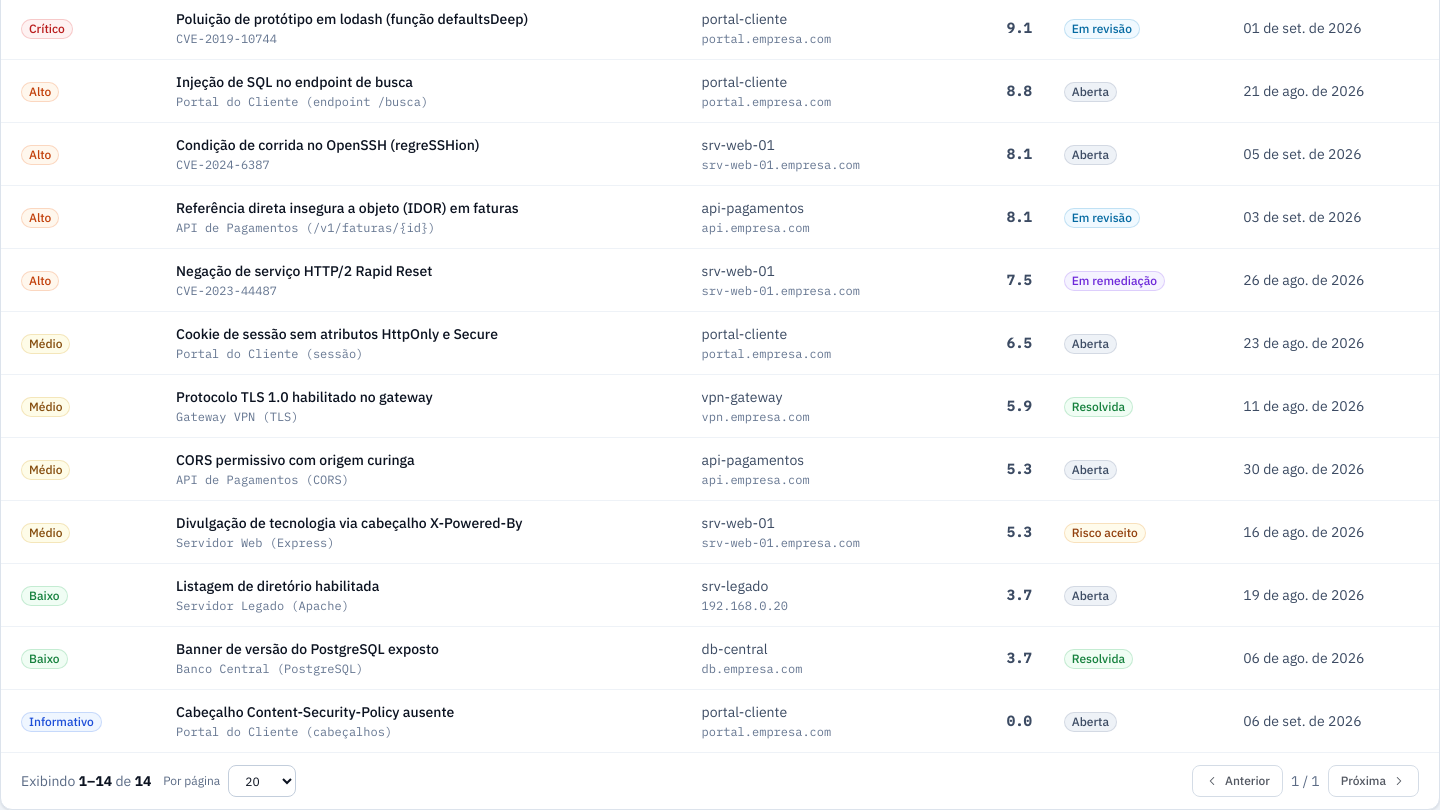
Test case: VulnListPage com paginação no servidor › troca de página sem repetir linhas e começa pelas mais graves
The width and height of the screenshot is (1440, 810).
(page scrolled)
Select "10" in the dropdown named "Itens por página" at (262, 781), box [228,765,296,797]
(page scrolled)
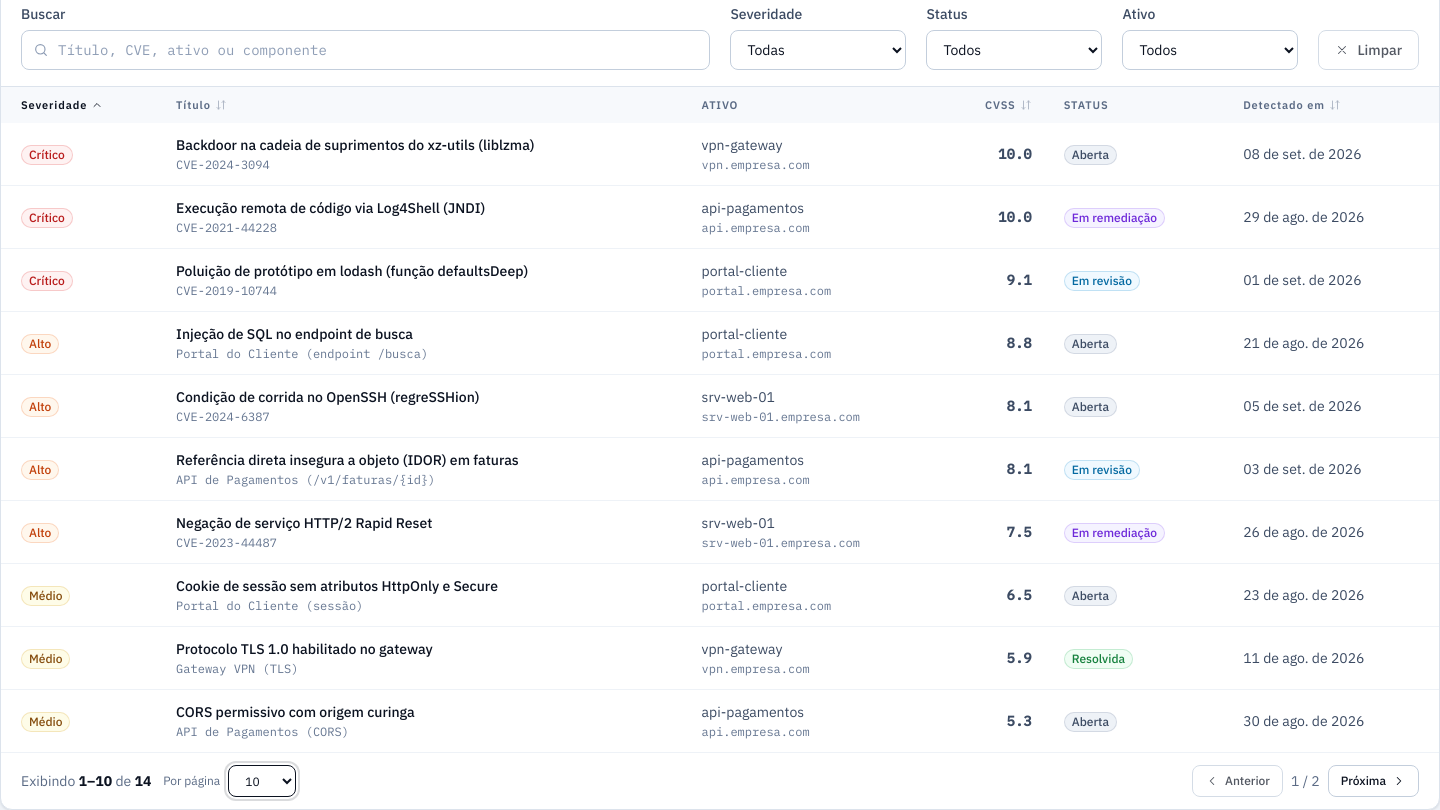
Expected: the number of rows with test id "vuln-row" is 10
Click the button with aria-label "Próxima página" at (1373, 781), box [1328,765,1419,797]
(page scrolled)
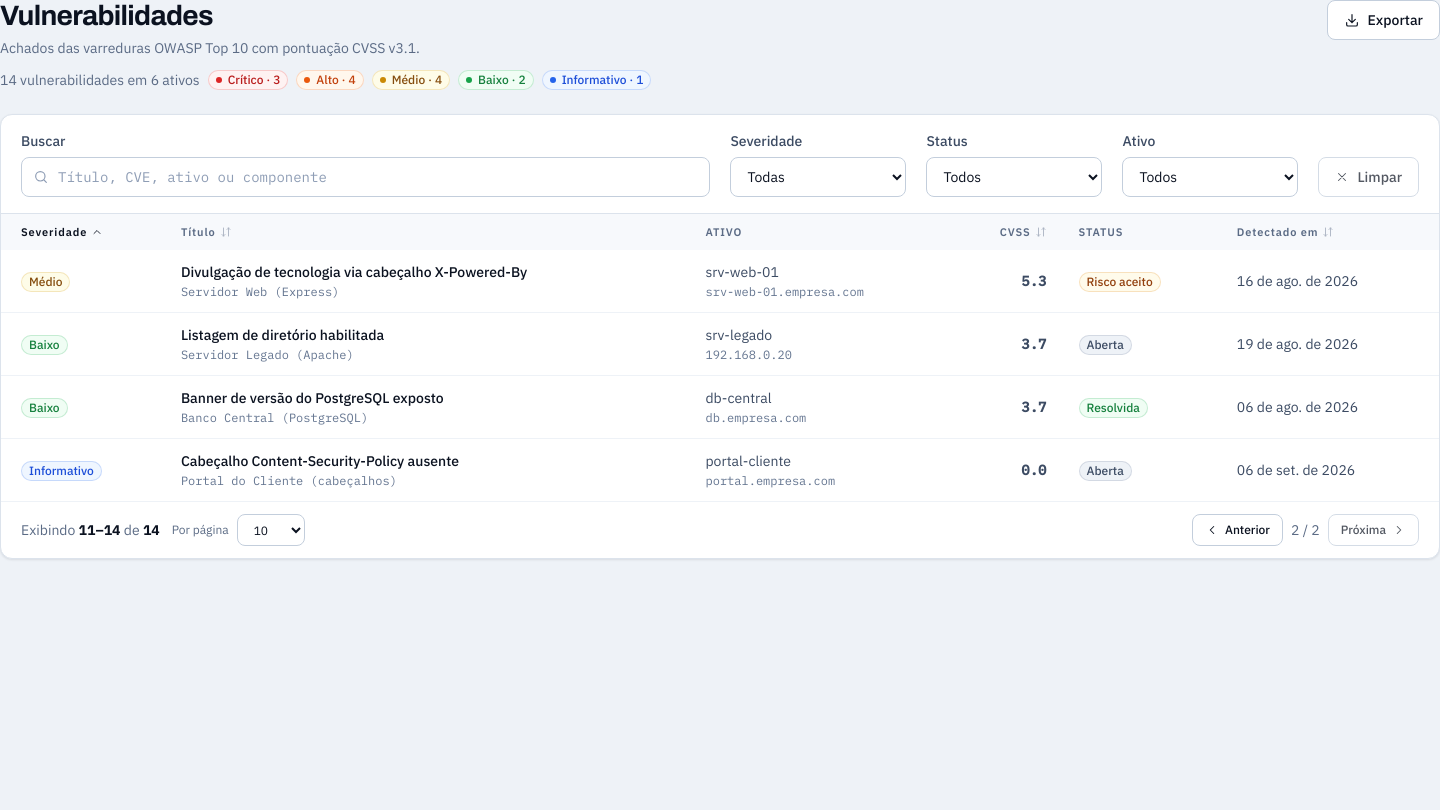
Expected: the number of rows with test id "vuln-row" is 4, [1,250,1439,312]; [1,312,1439,376]; [1,376,1439,438]; [1,438,1439,501]
